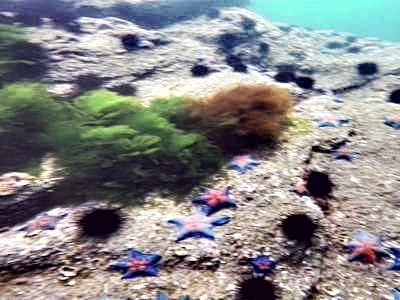urchin: (73, 209, 120, 237), (236, 276, 273, 295), (285, 213, 313, 238), (308, 168, 329, 197), (74, 72, 100, 86), (270, 70, 294, 82), (296, 74, 314, 88)
